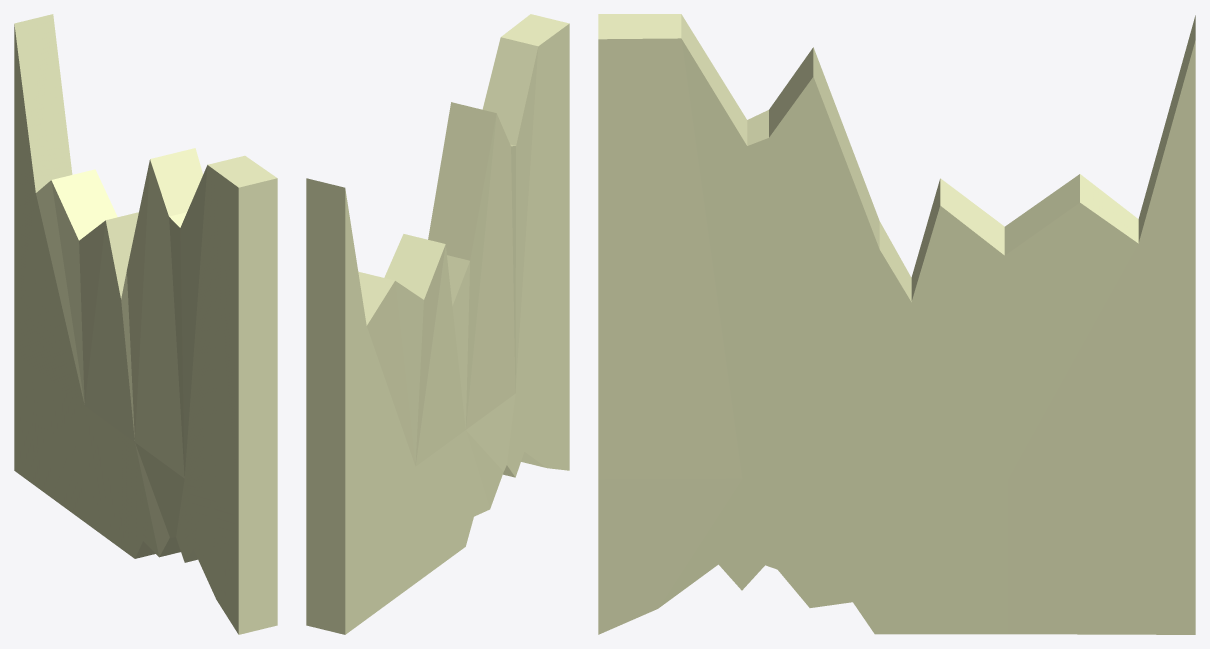
The model's file is SM_WallBroken_2.fbx.
3 renders of one model, left to right at view 1: azimuth 30°, elevation 25°; view 2: azimuth 150°, elevation 25°; view 3: azimuth 270°, elevation 25°, orthographic. The views are drawn at different scales.
Visible parts, largest first — view 1: SM_BaceWall3; view 2: SM_BaceWall3; view 3: SM_BaceWall3.
Boxes of the visible parts, left/top/right/bottom form: SM_BaceWall3: left=14, top=14, right=277, bottom=634; SM_BaceWall3: left=306, top=14, right=569, bottom=634; SM_BaceWall3: left=598, top=14, right=1195, bottom=634.
Bounding box in the file's own units: 0.00241 × 0.022 × 0.02.
